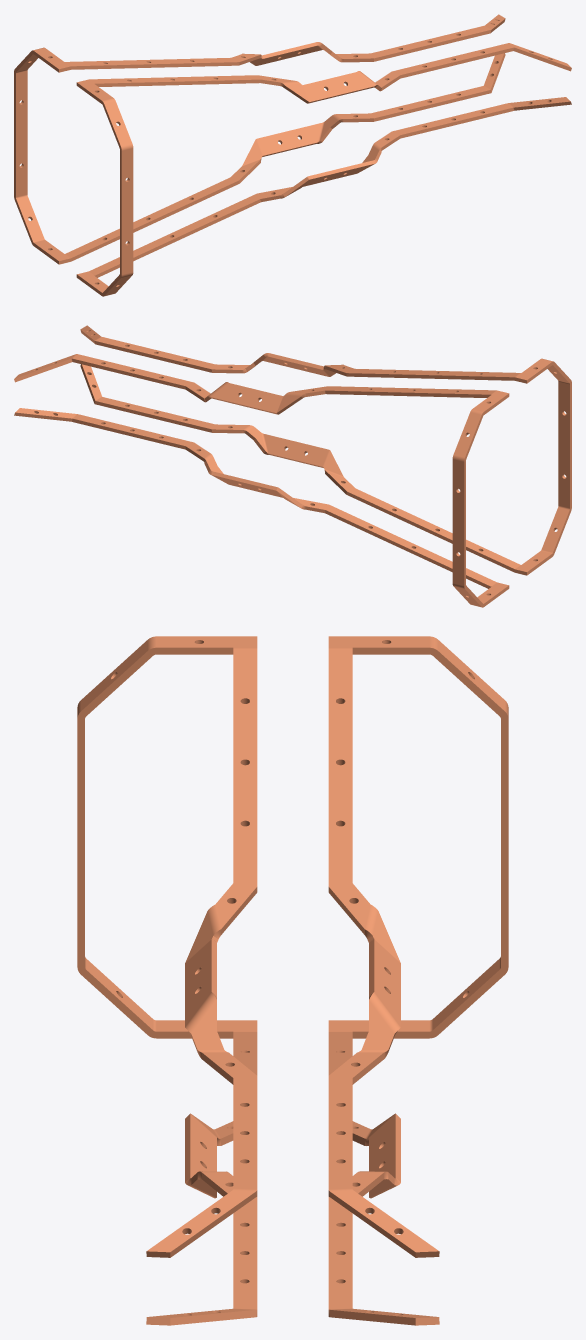
The model's file is cosmetics.gltf.
The picture shows the model from 3 angles, top to bottom: view 1: azimuth 30°, elevation 25°; view 2: azimuth 150°, elevation 25°; view 3: azimuth 270°, elevation 25°; orthographic projection. The views are drawn at different scales.
Visible parts, largest first — view 1: Part 29, Part 26, Part 28, Part 27; view 2: Part 28, Part 27, Part 29, Part 26; view 3: Part 27, Part 26, Part 28, Part 29.
Boxes of the visible parts, bbox=[...] form: Part 29: bbox=[14, 53, 505, 264]; Part 26: bbox=[76, 43, 571, 212]; Part 28: bbox=[76, 97, 571, 296]; Part 27: bbox=[14, 14, 505, 135]; Part 28: bbox=[80, 364, 571, 575]; Part 27: bbox=[14, 354, 509, 523]; Part 29: bbox=[14, 408, 509, 607]; Part 26: bbox=[80, 325, 571, 446]; Part 27: bbox=[328, 636, 508, 1257]; Part 26: bbox=[77, 636, 257, 1257]; Part 28: bbox=[77, 843, 257, 1325]; Part 29: bbox=[328, 843, 508, 1325].
Size of the model in its own units: 0.2885 by 0.115 by 0.115.
